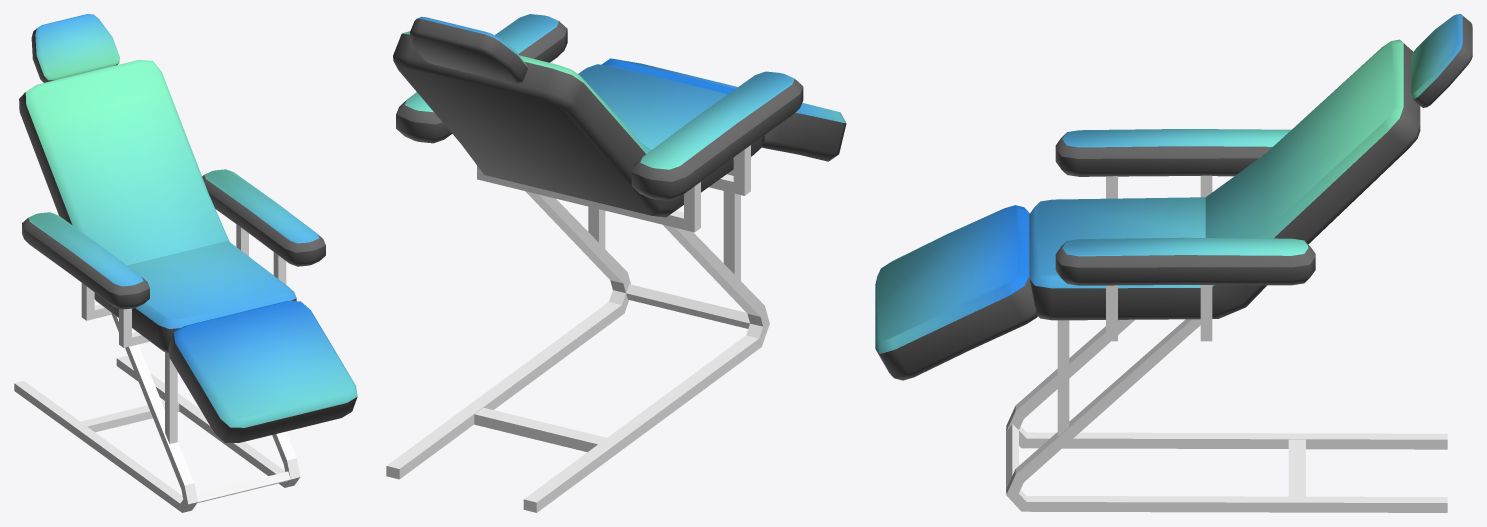
File: TatSeat02.fbx
3 views of the same model, side by side, from view 1: azimuth 30°, elevation 25°; view 2: azimuth 150°, elevation 25°; view 3: azimuth 270°, elevation 25° (orthographic). The views are drawn at different scales.
Parts seen in each view (by area): view 1: Tatseat02; view 2: Tatseat02; view 3: Tatseat02.
Part boxes in pixels (x1=…): Tatseat02: x1=14, y1=14, x2=357, y2=512; Tatseat02: x1=386, y1=14, x2=846, y2=512; Tatseat02: x1=875, y1=14, x2=1472, y2=512.
Bounding box in the file's own units: 86.48 × 136 × 165.
Materials: 1 (1 with a texture image).
